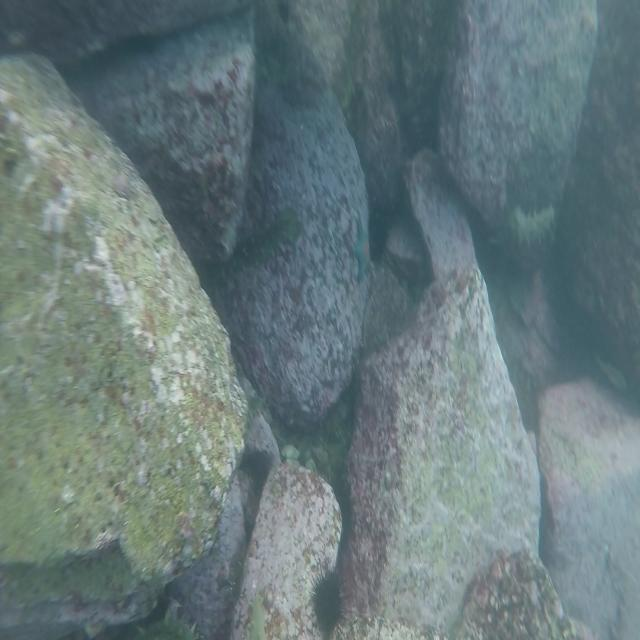echinus: (309, 564, 351, 637)
holothurian: (114, 602, 208, 640), (492, 209, 557, 251)
starfish: (350, 221, 373, 283)
